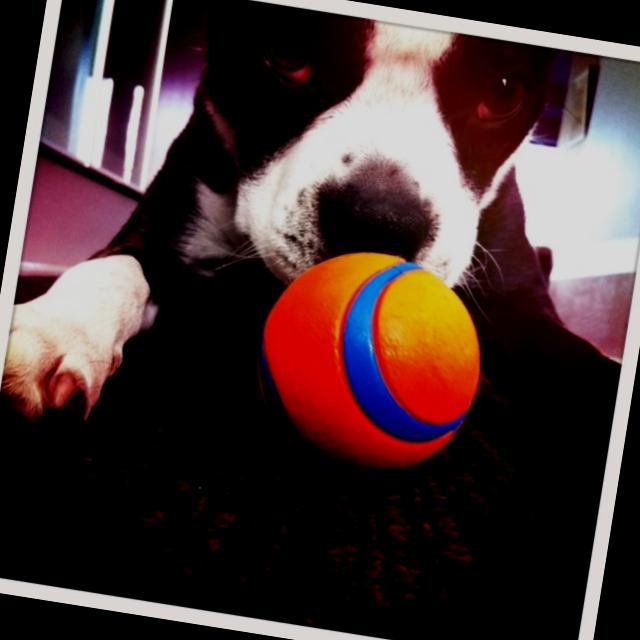Tennis ball: (236, 234, 491, 495)
